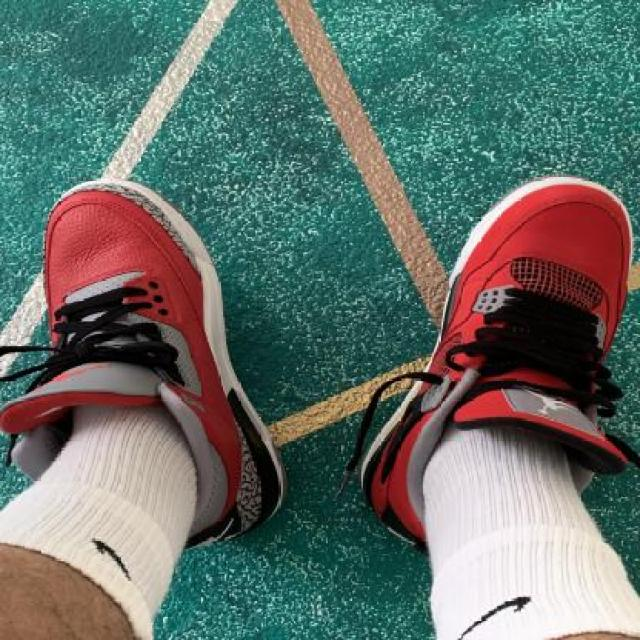shoe: (0, 178, 288, 556), (360, 170, 635, 548)
